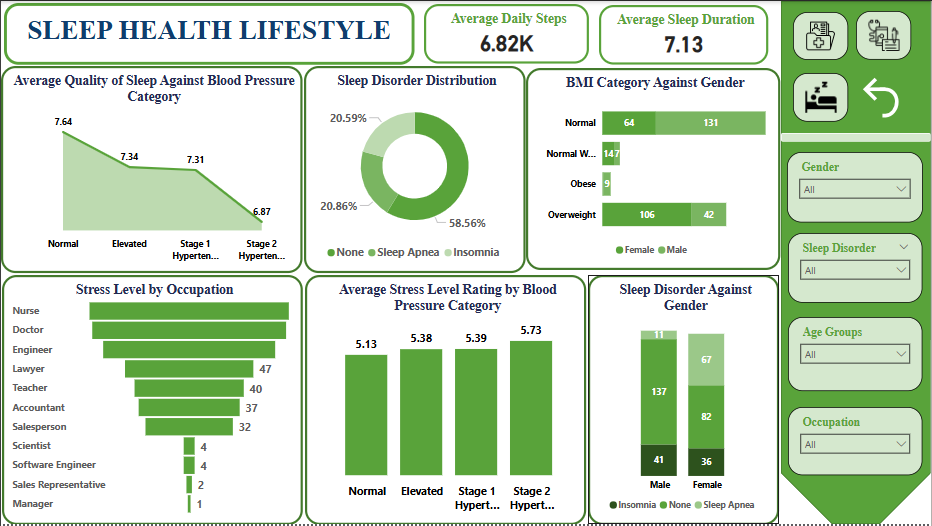

What the dashboard file says about the page in this screenshot:
{"tool":"powerbi","page":{"name":"Dashboard","canvas":[1280,720],"ordinal":0},"visuals":[{"type":"shape","box":[1074,0,206.1,720],"z":0},{"type":"textbox","box":[4.5,3,564.6,85.1],"z":1000},{"type":"actionButton","box":[1177.1,98.6,68.7,67.2],"z":2000},{"type":"image","box":[1090.5,14.9,76.2,65.7],"z":3000},{"type":"image","box":[1090.5,98.6,76.2,67.2],"z":4000},{"type":"image","box":[1177.1,13.4,76.2,67.2],"z":5000},{"type":"slicer","fields":{"Values":["Patient Details.Gender"]},"box":[1081.5,207.1,186.7,97.1],"z":6000},{"type":"slicer","fields":{"Values":["Patient Details.Age Groups"]},"box":[1083,434.7,185.2,101.6],"z":7000},{"type":"slicer","fields":{"Values":["Occupational Details.Occupation"]},"box":[1083,558.7,185.2,94.1],"z":8000},{"type":"slicer","fields":{"Values":["Sleep Details.Sleep Disorder"]},"box":[1083,319.7,185.2,95.6],"z":9000},{"type":"shape","box":[1073.8,182.2,206.1,12],"z":10000},{"type":"card","title":"Average Daily Steps","fields":{"Values":["Sleep_health_and_lifestyle_dataset.Average Daily Steps"]},"box":[582.6,4.5,227.1,82.2],"z":11000},{"type":"card","title":"Average Sleep Duration","fields":{"Values":["Sleep Details.Average Sleep Duration"]},"box":[823.1,6,233,82.2],"z":12000},{"type":"funnel","title":"Stress Level by Occupation","fields":{"Category":["Sleep_health_and_lifestyle_dataset.Occupation"],"Y":["CountNonNull(Sleep_health_and_lifestyle_dataset.Stress Level)"]},"box":[1.5,376.4,413.8,343.6],"z":13000},{"type":"columnChart","title":"Sleep Disorder Against Gender ","fields":{"Category":["Sleep_health_and_lifestyle_dataset.Gender"],"Series":["Sleep_health_and_lifestyle_dataset.Sleep Disorder"],"Y":["CountNonNull(Sleep_health_and_lifestyle_dataset.Sleep Disorder)"]},"box":[808.1,376.4,262.9,343.6],"z":14000},{"type":"barChart","title":"BMI Category Against Gender","fields":{"Category":["Health Details.BMI Category"],"Series":["Sleep_health_and_lifestyle_dataset.Gender"],"Y":["CountNonNull(Sleep_health_and_lifestyle_dataset.Gender)"]},"box":[723,92.6,349.5,277.8],"z":15000},{"type":"areaChart","title":"Average Quality of Sleep Against Blood Pressure Category","fields":{"Y":["Avg(Sleep_health_and_lifestyle_dataset.Quality of Sleep)"],"Category":["Health Details.Blood Pressure Category"]},"box":[0,89.6,415.3,285.3],"z":16000},{"type":"donutChart","title":"Sleep Disorder Distribution","fields":{"Series":["Sleep_health_and_lifestyle_dataset.Sleep Disorder"],"Category":["Sleep_health_and_lifestyle_dataset.Sleep Disorder"],"Y":["CountNonNull(Sleep_health_and_lifestyle_dataset.Gender)"]},"box":[416.8,89.6,304.7,285.3],"z":17000},{"type":"columnChart","title":"Average Stress Level Rating by Blood Pressure Category","fields":{"Y":["Avg(Sleep_health_and_lifestyle_dataset.Stress Level)"],"Category":["Health Details.Blood Pressure Category"]},"box":[418.3,376.4,386.9,343.6],"z":18000}]}

Visuals, with their boxes in screenshot pixels (x1, y1, x2, y2), scaled from the page's 1280x720 canvas onto the 932x526 screenshot:
shape: <region>782, 0, 931, 525</region>
textbox: <region>3, 2, 414, 64</region>
actionButton: <region>857, 72, 907, 121</region>
image: <region>794, 11, 850, 59</region>
image: <region>794, 72, 850, 121</region>
image: <region>857, 10, 913, 59</region>
slicer - Patient Details.Gender: <region>787, 151, 923, 222</region>
slicer - Patient Details.Age Groups: <region>789, 318, 923, 392</region>
slicer - Occupational Details.Occupation: <region>789, 408, 923, 477</region>
slicer - Sleep Details.Sleep Disorder: <region>789, 234, 923, 303</region>
shape: <region>782, 133, 931, 142</region>
"Average Daily Steps" card: <region>424, 3, 590, 63</region>
"Average Sleep Duration" card: <region>599, 4, 769, 64</region>
"Stress Level by Occupation" funnel: <region>1, 275, 302, 525</region>
"Sleep Disorder Against Gender " columnChart: <region>588, 275, 780, 525</region>
"BMI Category Against Gender" barChart: <region>526, 68, 781, 271</region>
"Average Quality of Sleep Against Blood Pressure Category" areaChart: <region>0, 65, 302, 274</region>
"Sleep Disorder Distribution" donutChart: <region>303, 65, 525, 274</region>
"Average Stress Level Rating by Blood Pressure Category" columnChart: <region>305, 275, 586, 525</region>
